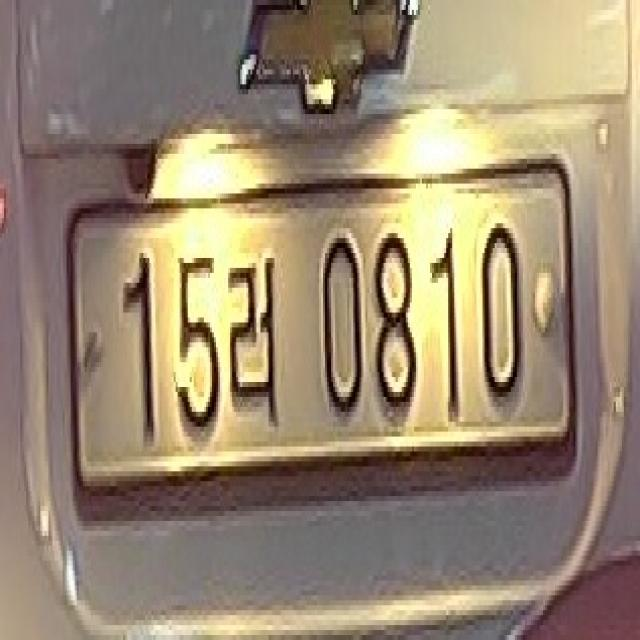0: (472, 203, 531, 407), (317, 218, 369, 432)
1: (111, 218, 168, 462), (428, 208, 464, 432)
5: (168, 228, 222, 447)
8: (371, 218, 420, 422)
leo: (220, 228, 289, 427)
license_plate: (63, 139, 582, 541)
